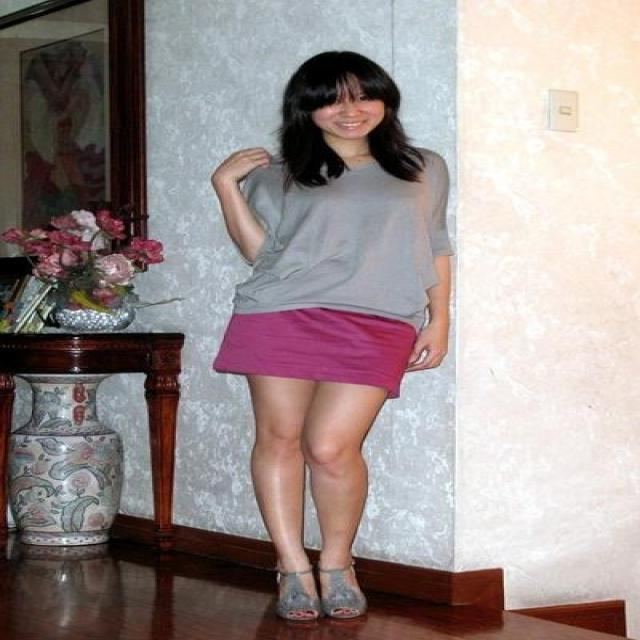shirt: (232, 141, 454, 332)
shoe: (280, 554, 365, 618)
skirt: (213, 307, 422, 396)
